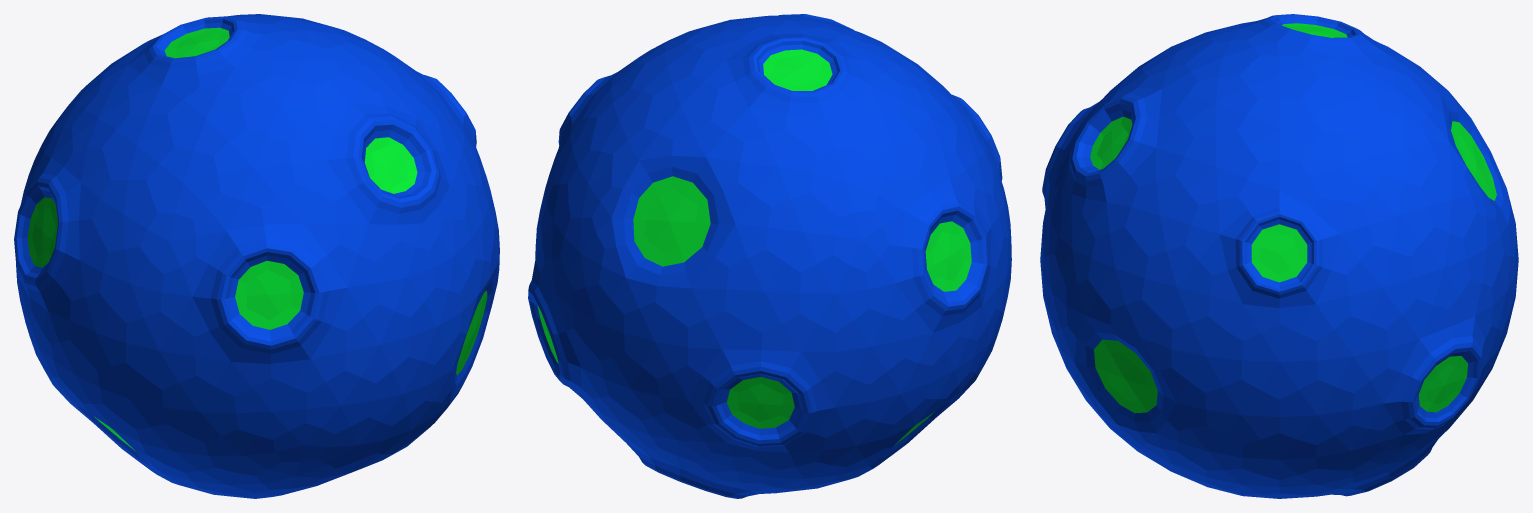
The model's file is GameAssetPlanetBlue.fbx.
3 views of the same model, side by side, from view 1: azimuth 30°, elevation 25°; view 2: azimuth 150°, elevation 25°; view 3: azimuth 270°, elevation 25° (orthographic).
Visible parts, largest first — view 1: Planet; view 2: Planet; view 3: Planet.
Part boxes in pixels (x1,y1,x2,y2): Planet: [14, 14, 499, 498]; Planet: [528, 14, 1011, 498]; Planet: [1040, 14, 1518, 498].
Bounding box in the file's own units: 309 × 310 × 304.
